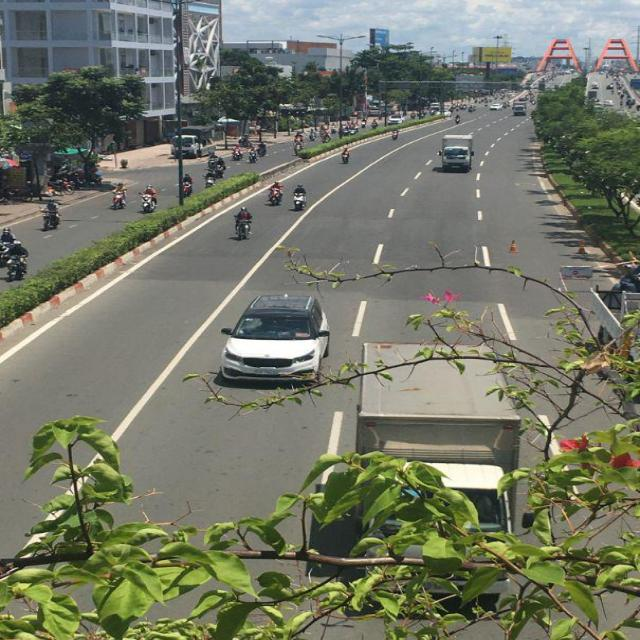car: (221, 291, 332, 387), (512, 104, 526, 115)
motorcycle: (1, 245, 31, 280), (42, 200, 62, 233), (234, 216, 252, 240), (290, 184, 306, 210), (268, 184, 282, 206), (112, 192, 126, 211)
truck: (359, 342, 530, 604), (173, 124, 217, 158), (441, 134, 474, 172)
